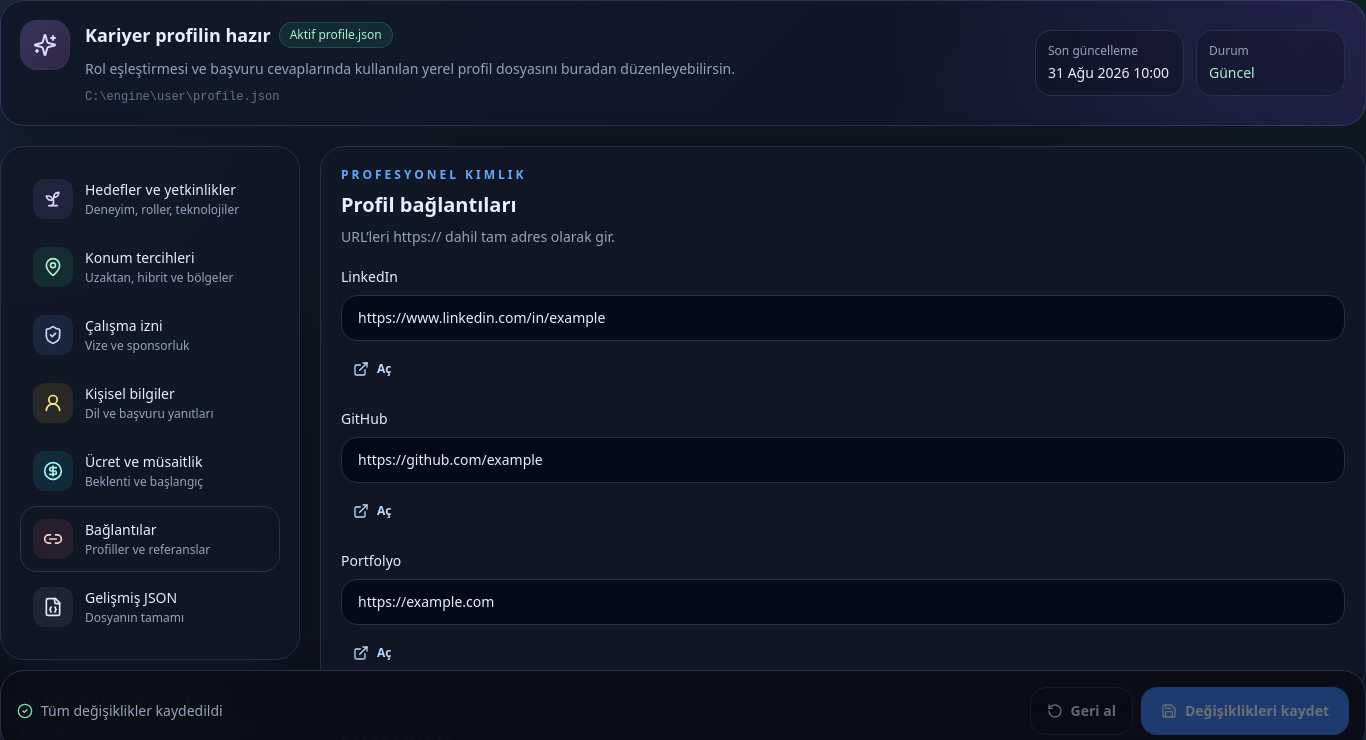
ProfileEditor › shows field-level URL validation and does not send an invalid profile
The width and height of the screenshot is (1366, 740).
Replace the text in the field labelled "GitHub" with "github.com/example" at [843, 460], box x1=341 y1=437 x2=1345 y2=483
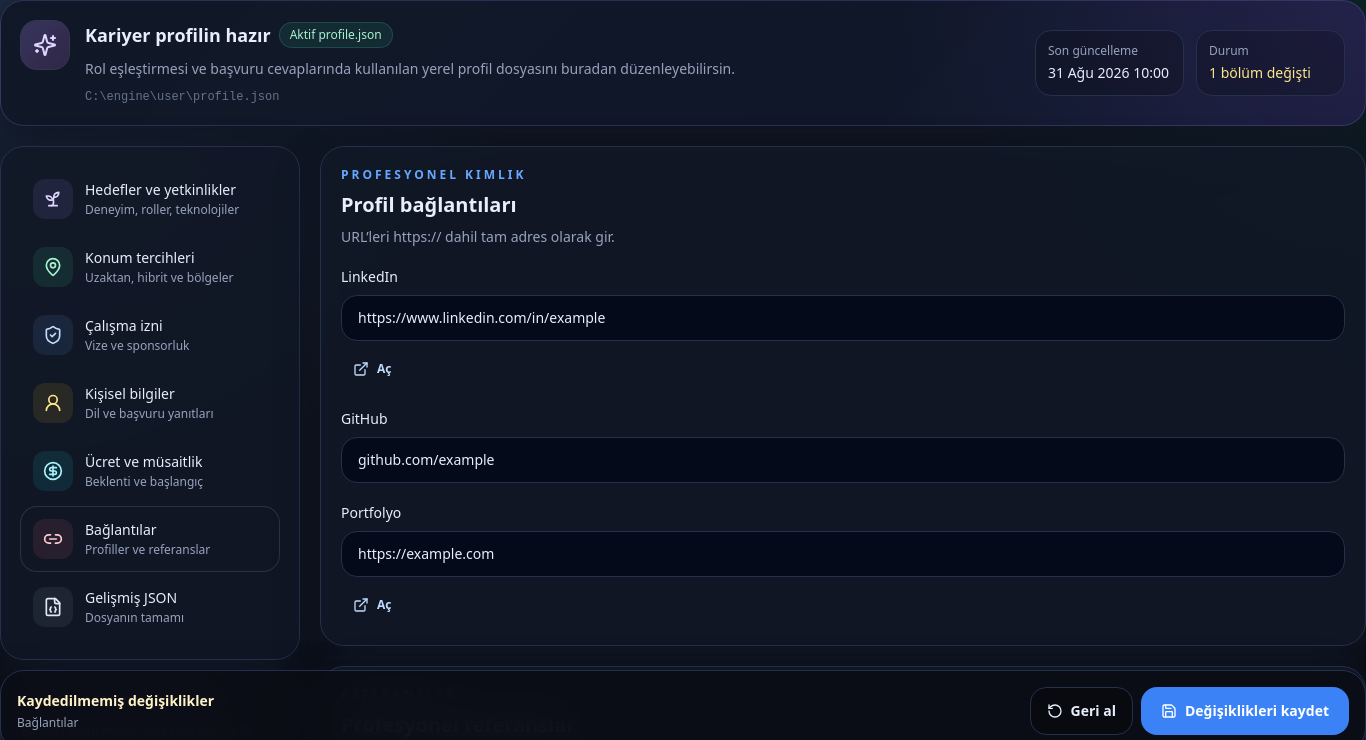
Click the button "Değişiklikleri kaydet" at [1245, 711], box x1=1141 y1=687 x2=1349 y2=735
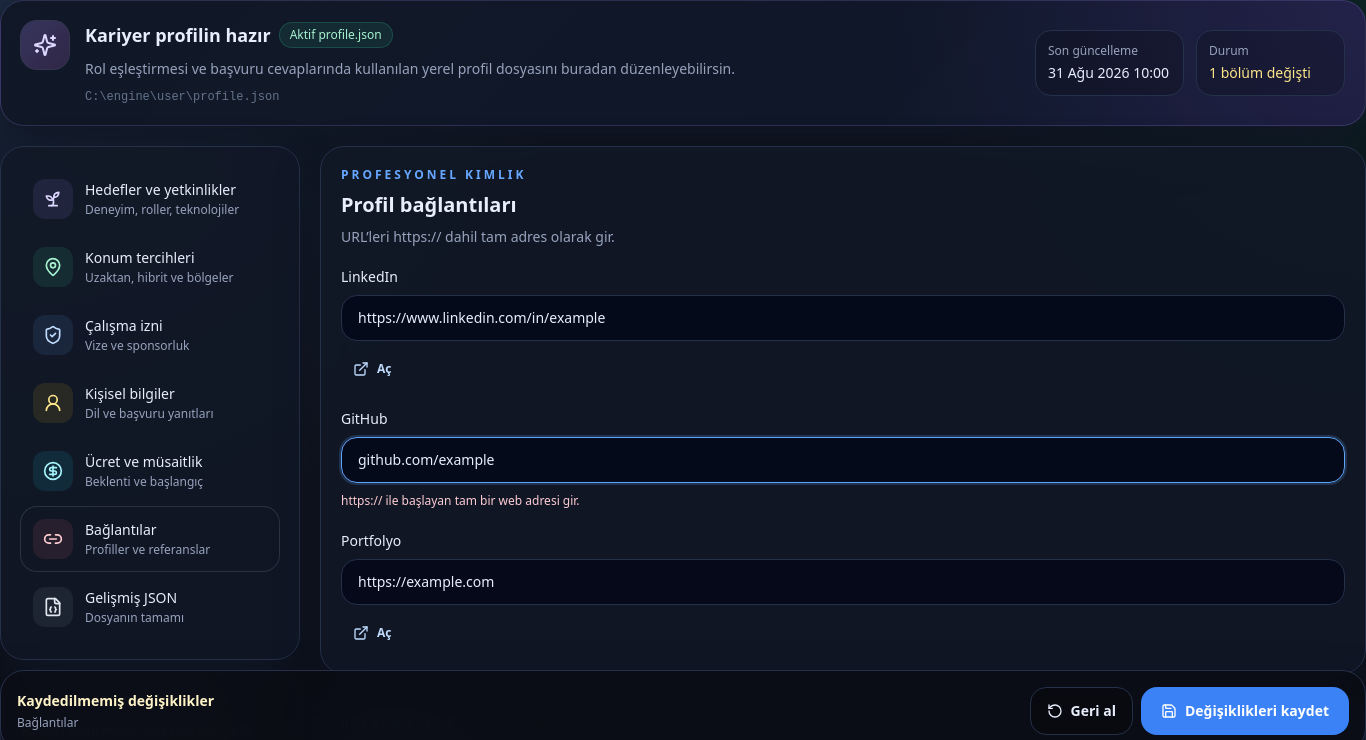
expect the text "https:// ile başlayan tam bir web adresi gir." is shown: met, box x1=341 y1=492 x2=580 y2=509
